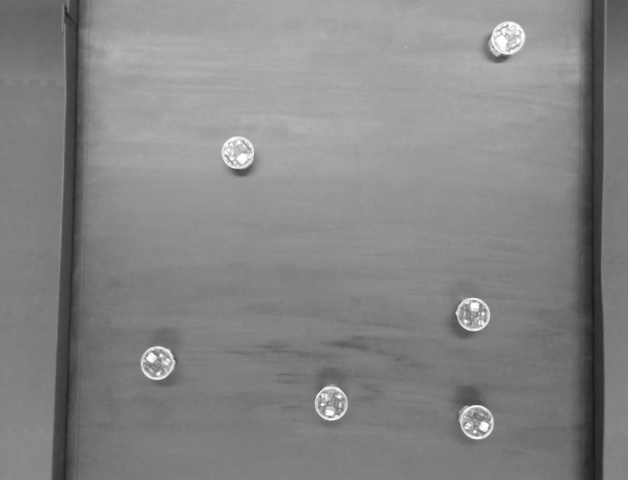epuck_2: (450, 293, 498, 339), (134, 342, 185, 384), (456, 398, 498, 449), (312, 379, 352, 430), (216, 131, 262, 175), (485, 20, 528, 60)
